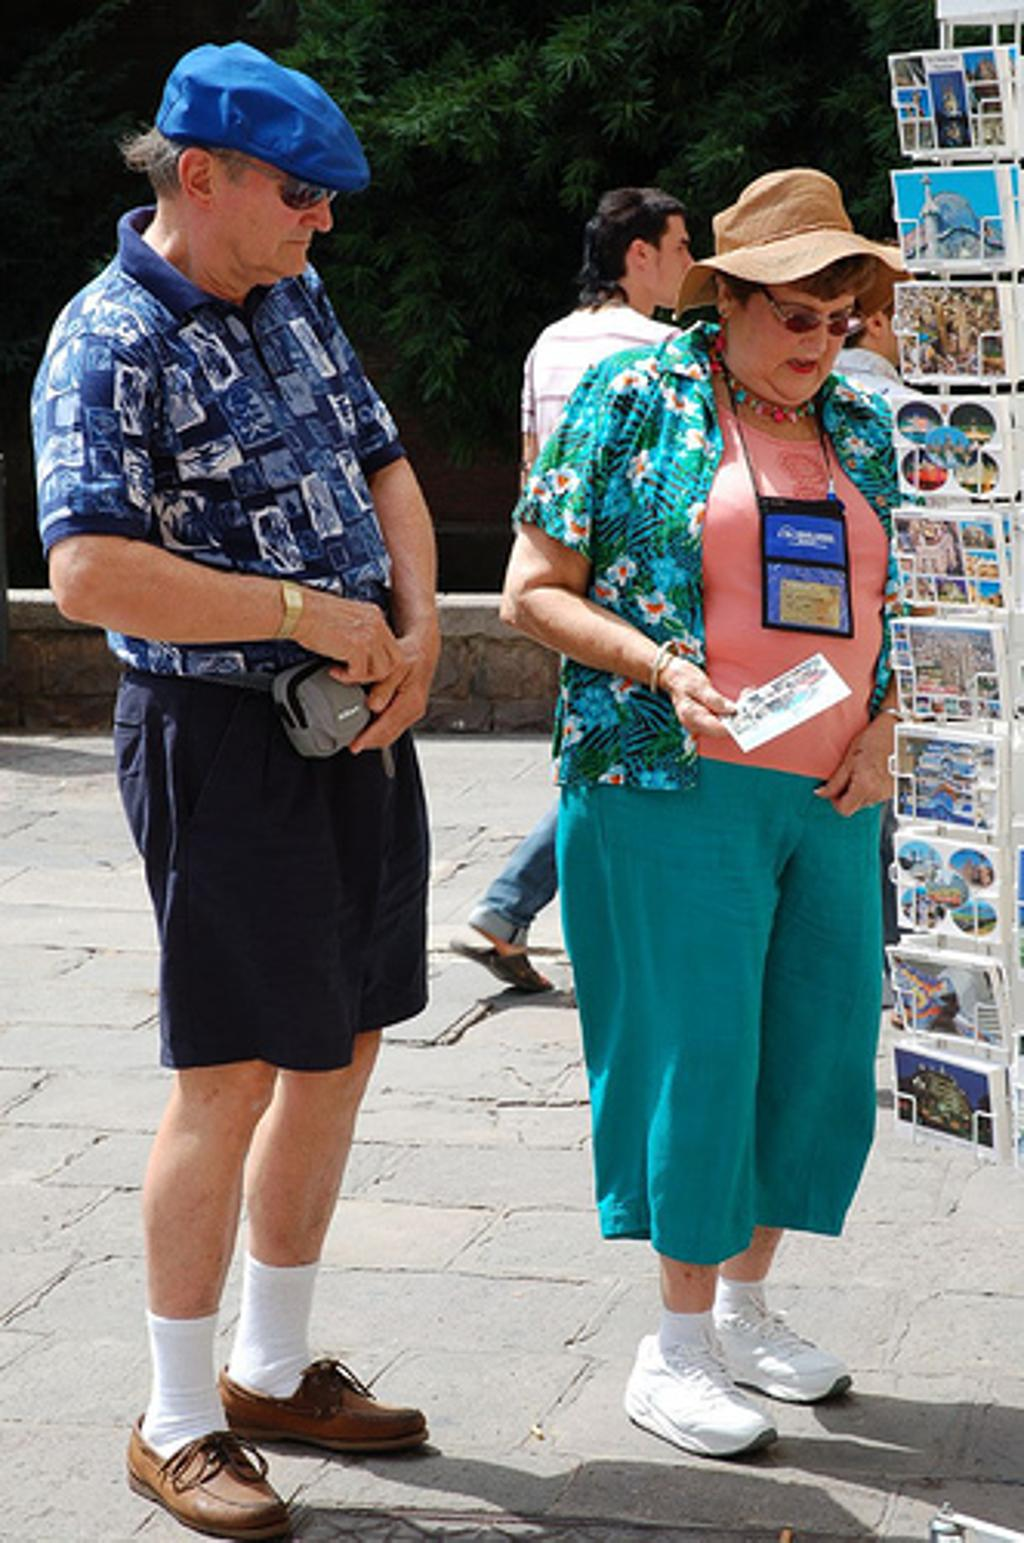face: (199, 126, 338, 295), (750, 250, 855, 404), (626, 196, 695, 322)
